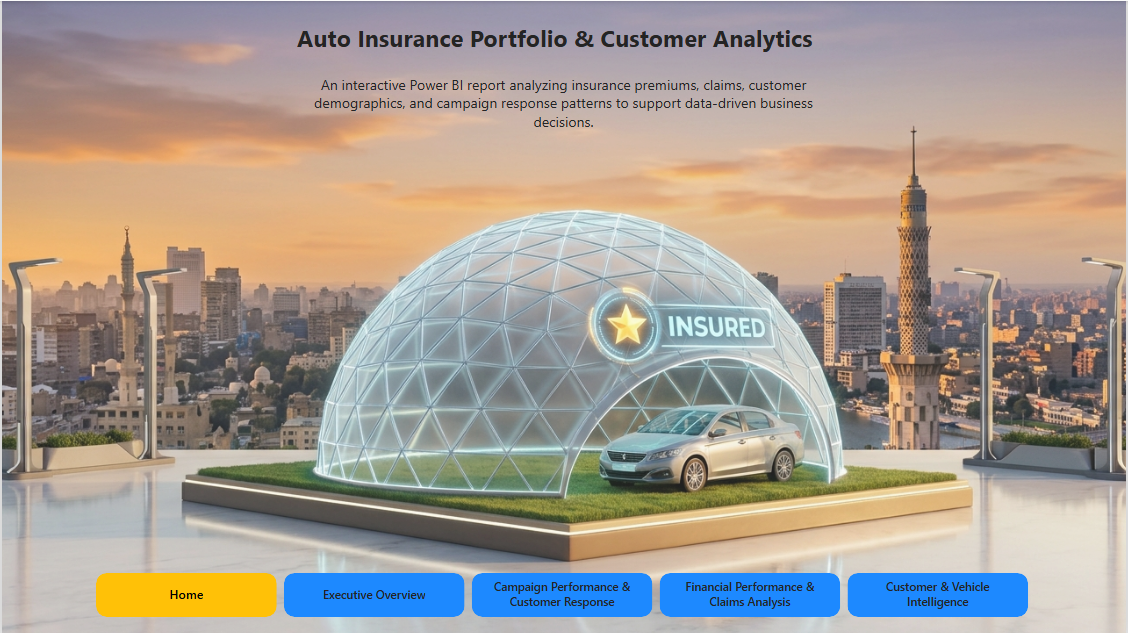

What the dashboard file says about the page in this screenshot:
{"tool":"powerbi","page":{"name":"Home","canvas":[1280,720],"ordinal":0},"visuals":[{"type":"pageNavigator","box":[107.1,651.6,1066.3,50.1],"z":0},{"type":"textbox","box":[336.1,23.9,607.2,60.4],"z":1},{"type":"textbox","box":[336.1,84.3,607.2,70.6],"z":2}]}

Visuals, with their boxes in screenshot pixels (x1, y1, x2, y2), scaled from the page's 1280x720 canvas onto the 1128x633 screenshot:
pageNavigator: [x1=94, y1=573, x2=1034, y2=617]
textbox: [x1=296, y1=21, x2=831, y2=74]
textbox: [x1=296, y1=74, x2=831, y2=136]
